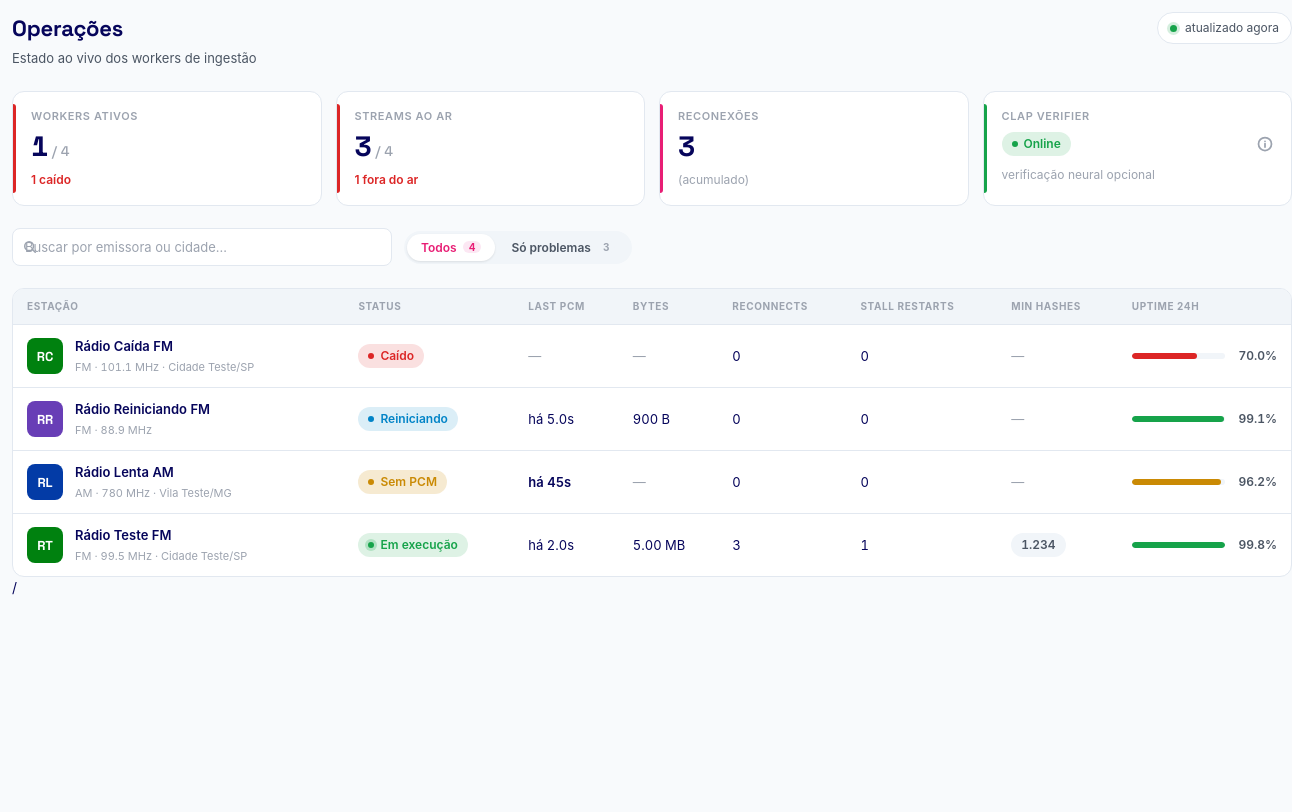
Test case: OperationsPage › clicar na linha abre o cadastro da emissora
The width and height of the screenshot is (1292, 812).
Click the row named "Abrir cadastro da emissora" at (652,482), box x1=13 y1=451 x2=1291 y2=514
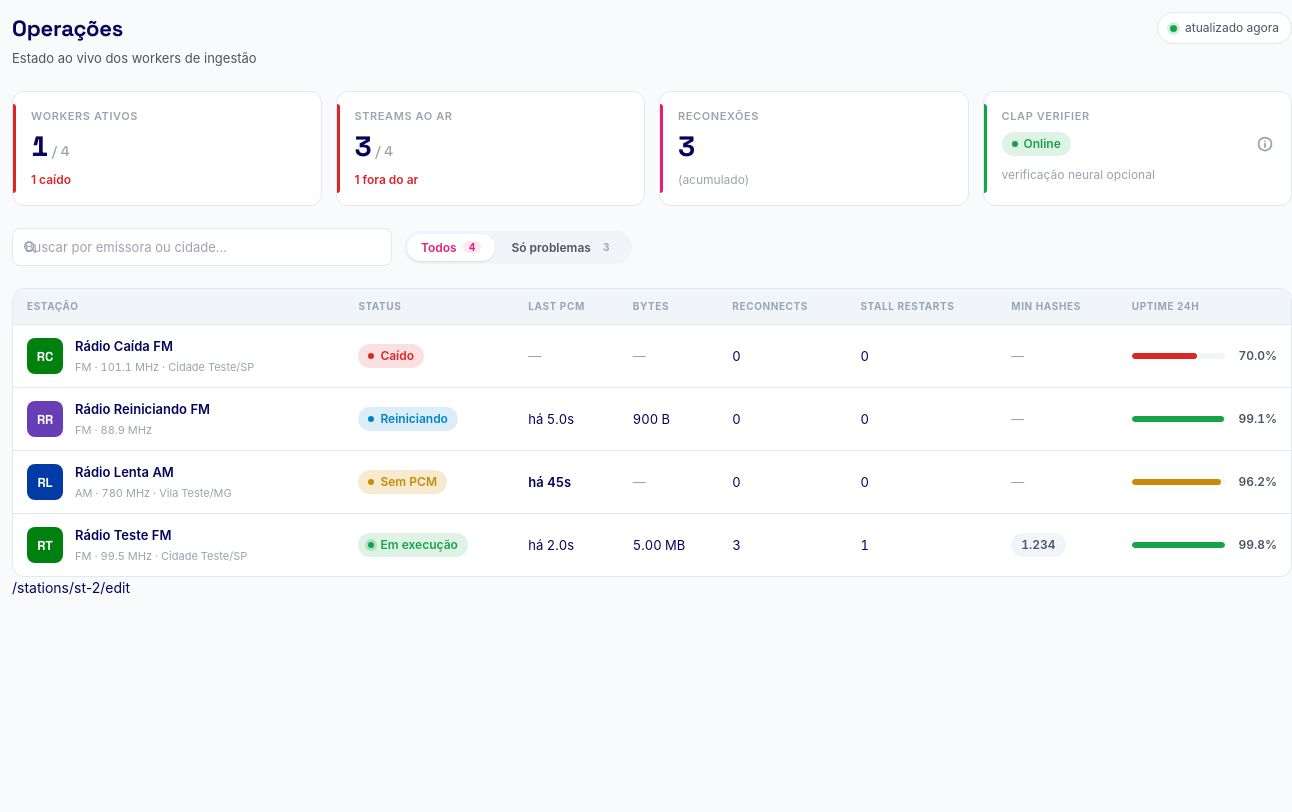
Result: the text with test id "local" reads "/stations/st-2/edit" at x1=12 y1=579 x2=130 y2=596
